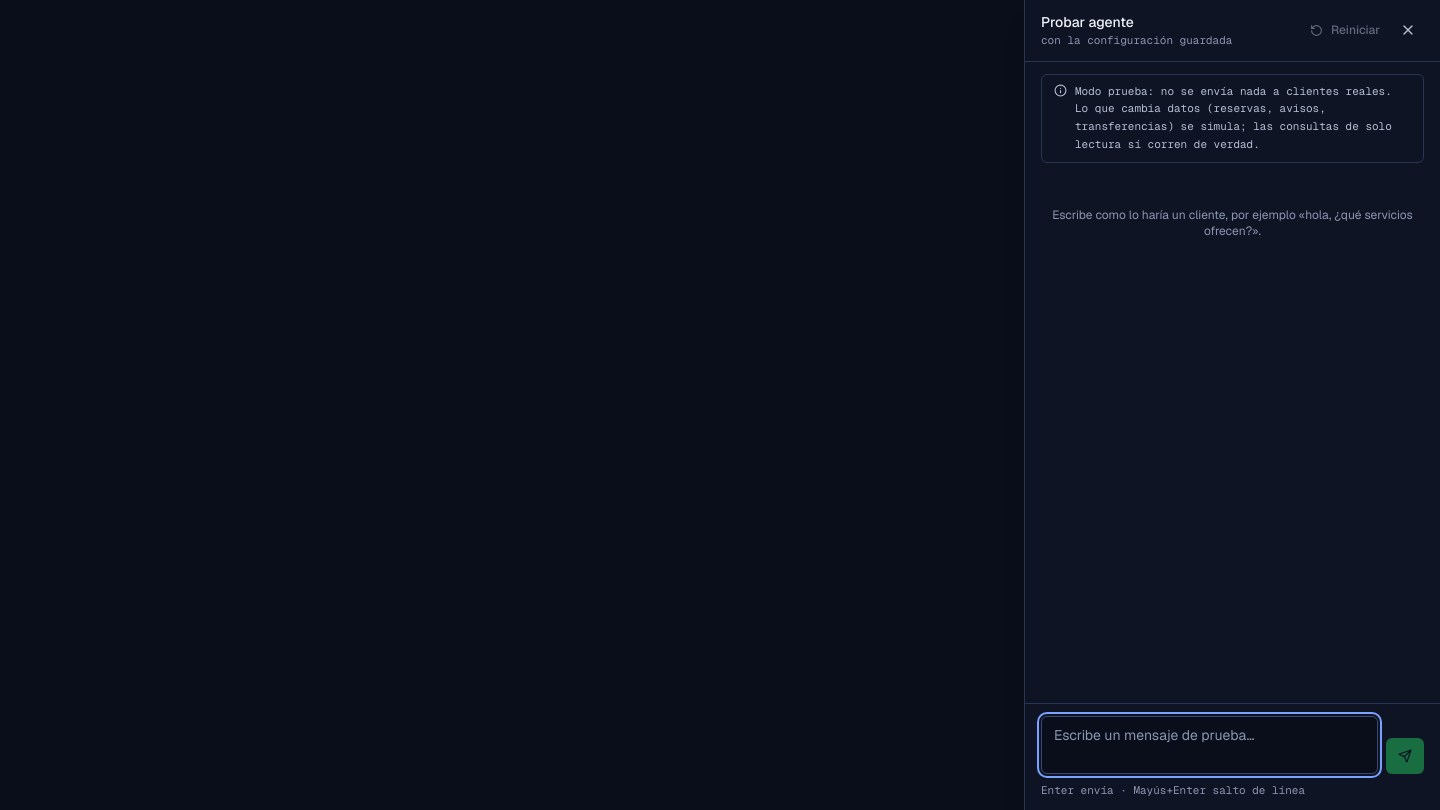
manda el borrador y la conversación, y muestra la respuesta y los mensajes que quedan
Type "¿cuánto cuesta el corte?" into the text box labelled "mensaje de prueba" at coordinates (1210, 744), box [1041,716,1378,774]
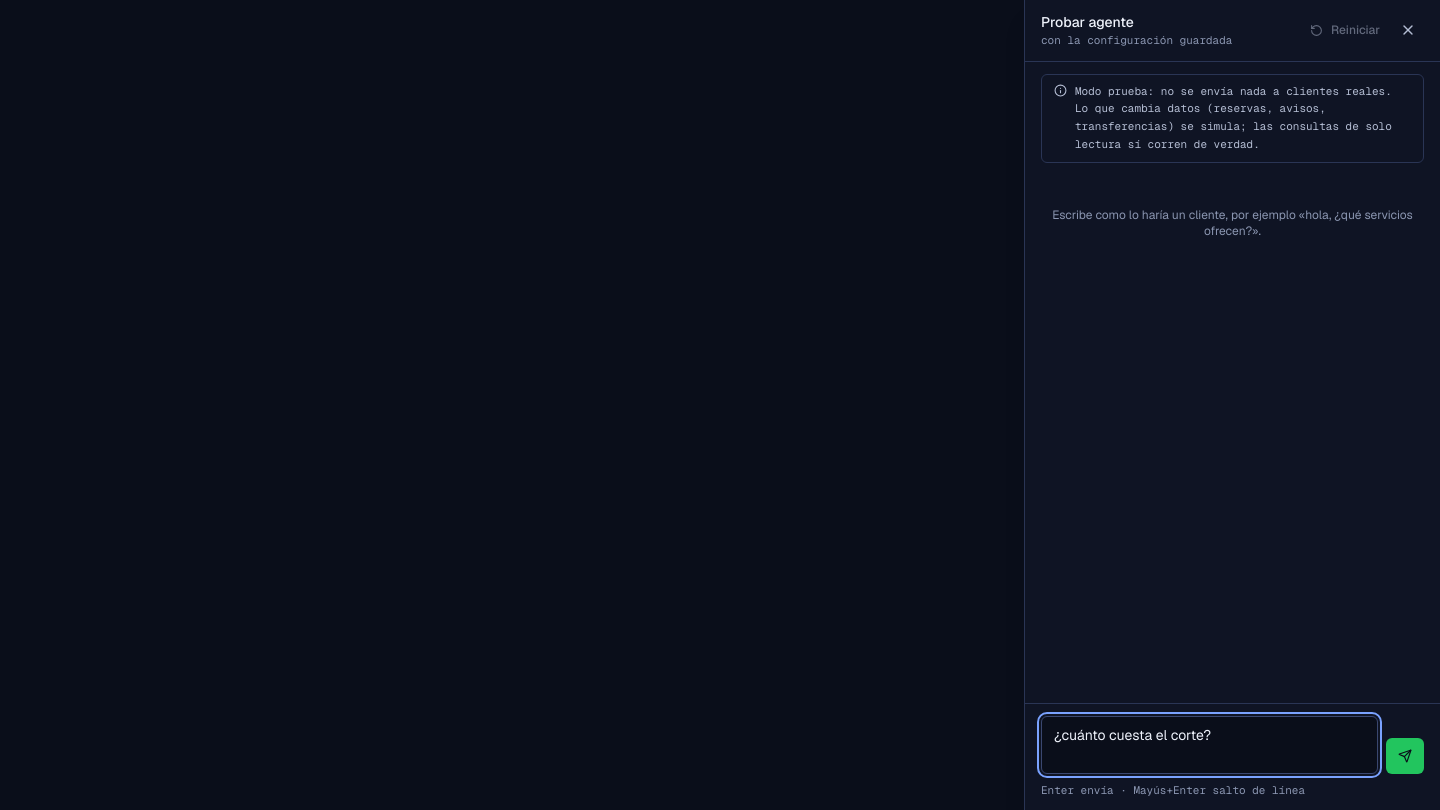
Click the button named "Enviar" at coordinates (1405, 756), box [1386,738,1424,774]
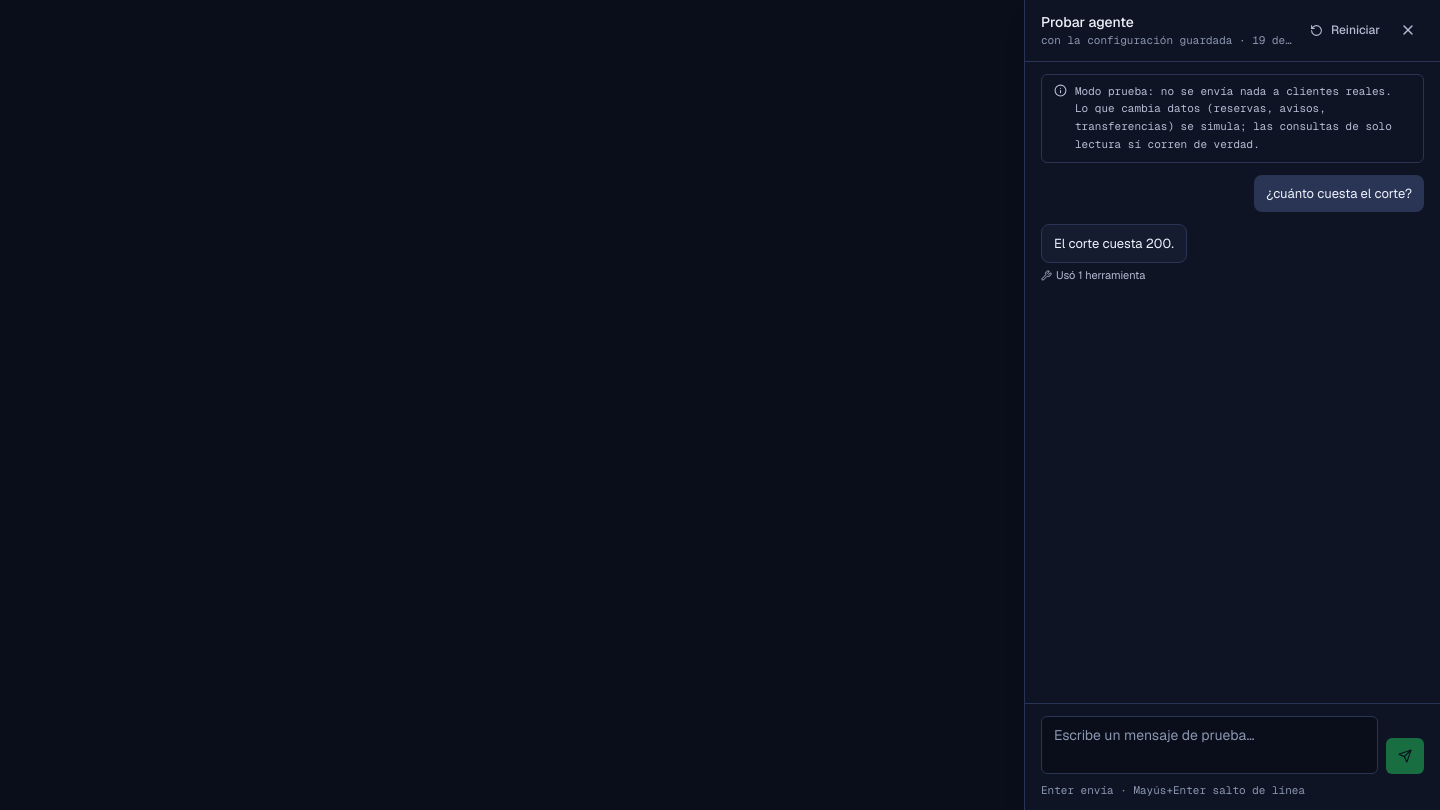
Expected: the text "El corte cuesta 200." is shown, [1041,224,1187,263]
Expected: the text "con la configuración guardada · 19 de hoy" is shown, [1041,32,1294,48]
Expected: the heading "Usó 1 herramienta" is shown, [1041,267,1145,284]
